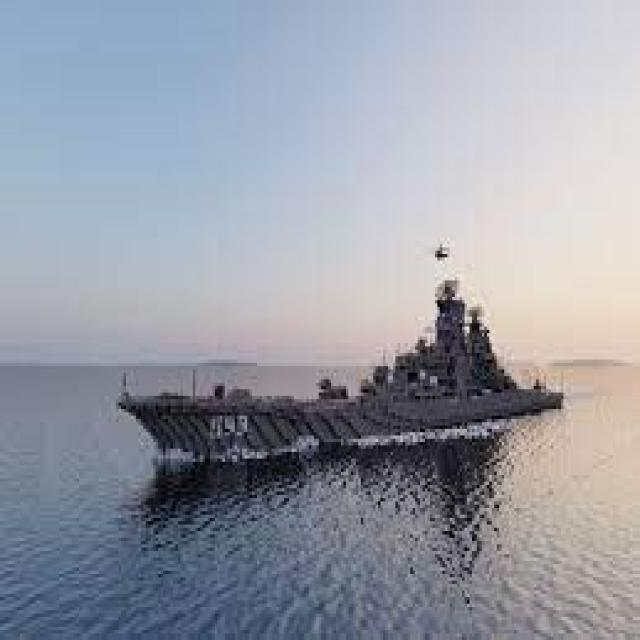navalvessels: (102, 237, 580, 488)
